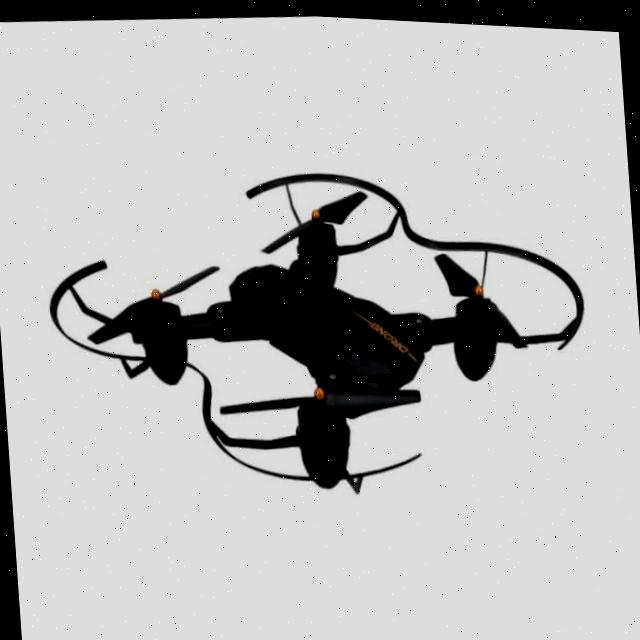drone: (40, 138, 598, 521)
